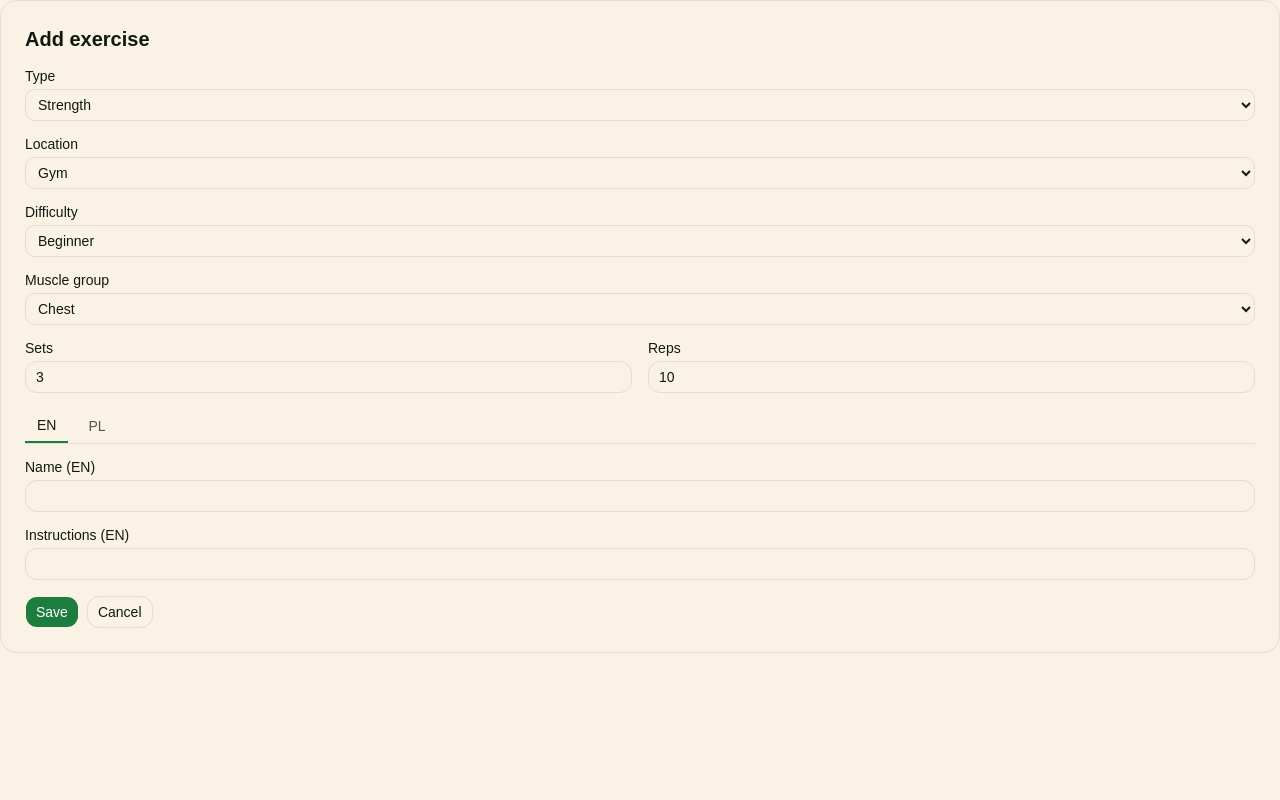
Scenario: ExerciseForm › switches to duration instead of sets/reps for a cardio exercise
Select "Cardio" in the dropdown labelled "Type" at x=640, y=105, box [25,89,1255,121]
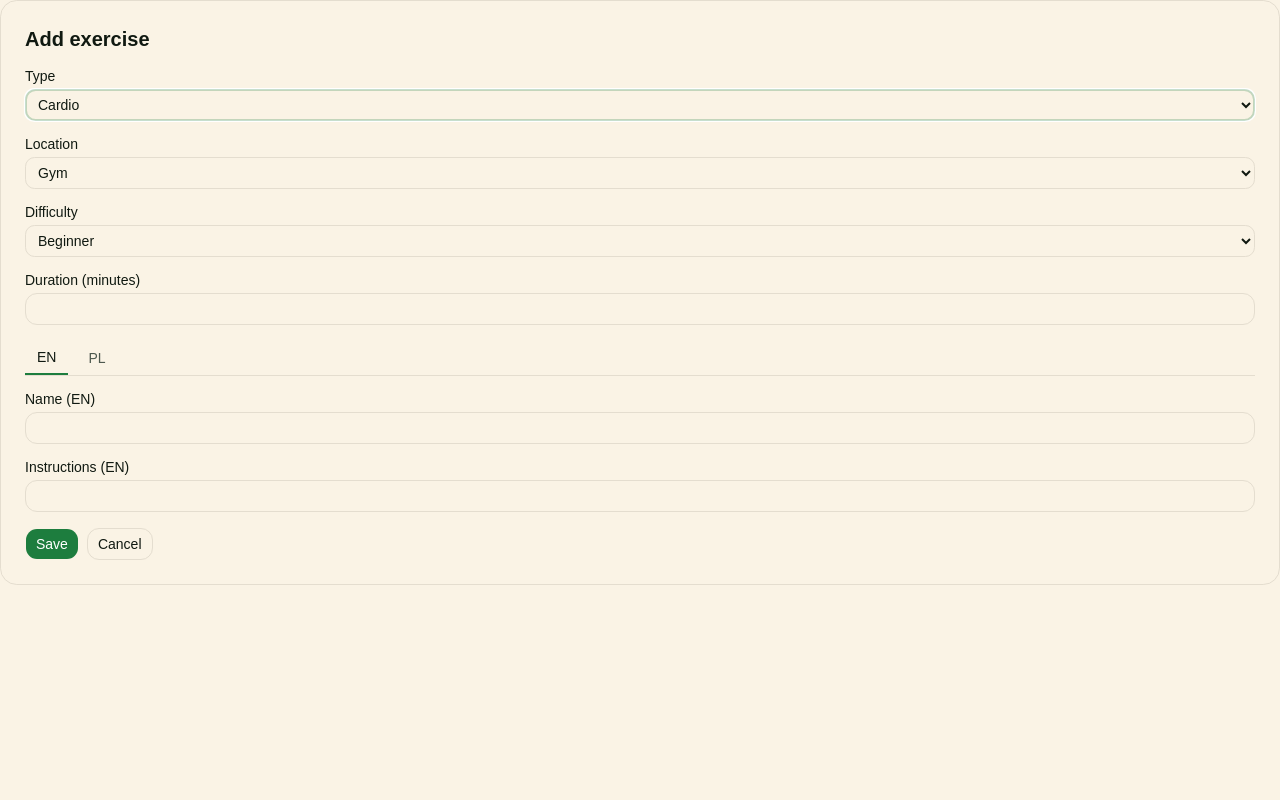
Now the label labelled "Sets" is gone
Now the label labelled "Reps" is gone
